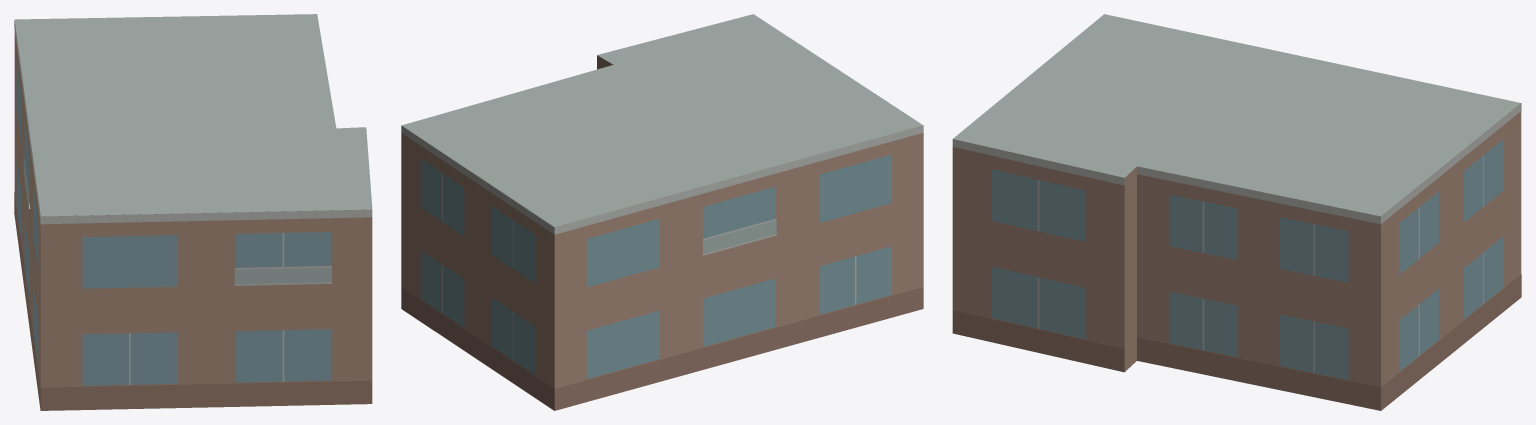
Rendered from survey-upis-32941590.glb.
3 views of the same model, side by side, from view 1: azimuth 30°, elevation 25°; view 2: azimuth 150°, elevation 25°; view 3: azimuth 270°, elevation 25° (orthographic). The views are drawn at different scales.
Visible parts, largest first — view 1: survey-upis-32941590.tmp; view 2: survey-upis-32941590.tmp; view 3: survey-upis-32941590.tmp.
Boxes of the visible parts, x1=… form: survey-upis-32941590.tmp: x1=14, y1=14, x2=372, y2=410; survey-upis-32941590.tmp: x1=401, y1=14, x2=923, y2=410; survey-upis-32941590.tmp: x1=952, y1=14, x2=1521, y2=410.
Bounding box in the file's own units: 13.63 × 6.1 × 16.18.
